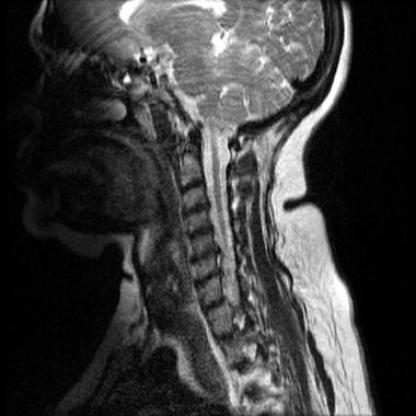Disc Protrusionrotation: (190, 249, 218, 263), (193, 273, 223, 286), (181, 203, 210, 216), (185, 227, 214, 240)
Osteophytesrotation: (190, 249, 218, 263), (193, 273, 223, 286), (181, 203, 210, 216), (185, 227, 214, 240)
